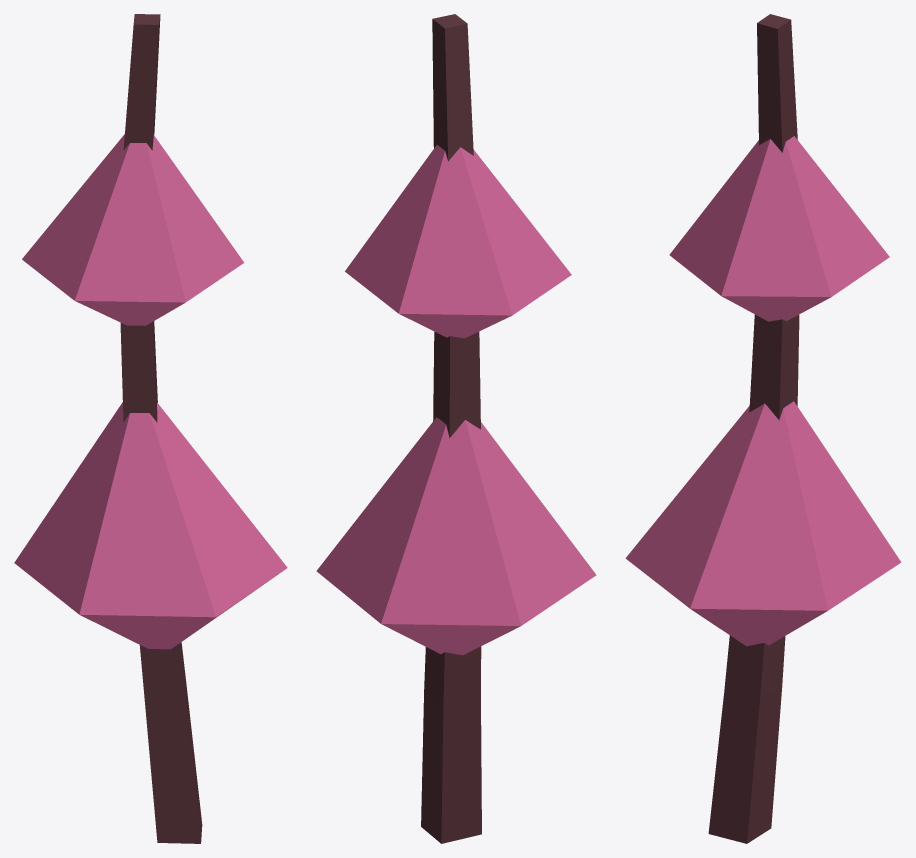
File: scifi-scifi-plant-baggy-small.glb
3 views of the same model, side by side, from view 1: azimuth 30°, elevation 25°; view 2: azimuth 150°, elevation 25°; view 3: azimuth 270°, elevation 25° (orthographic). The views are drawn at different scales.
Parts seen in each view (by area): view 1: scifi-plant-baggy-small; view 2: scifi-plant-baggy-small; view 3: scifi-plant-baggy-small.
Part boxes in pixels (box(x1,y1,x2,y2)): scifi-plant-baggy-small: box(14, 14, 287, 843); scifi-plant-baggy-small: box(316, 14, 596, 843); scifi-plant-baggy-small: box(625, 14, 901, 843).
Size of the model in its own units: 0.2468 by 0.9112 by 0.2842.
